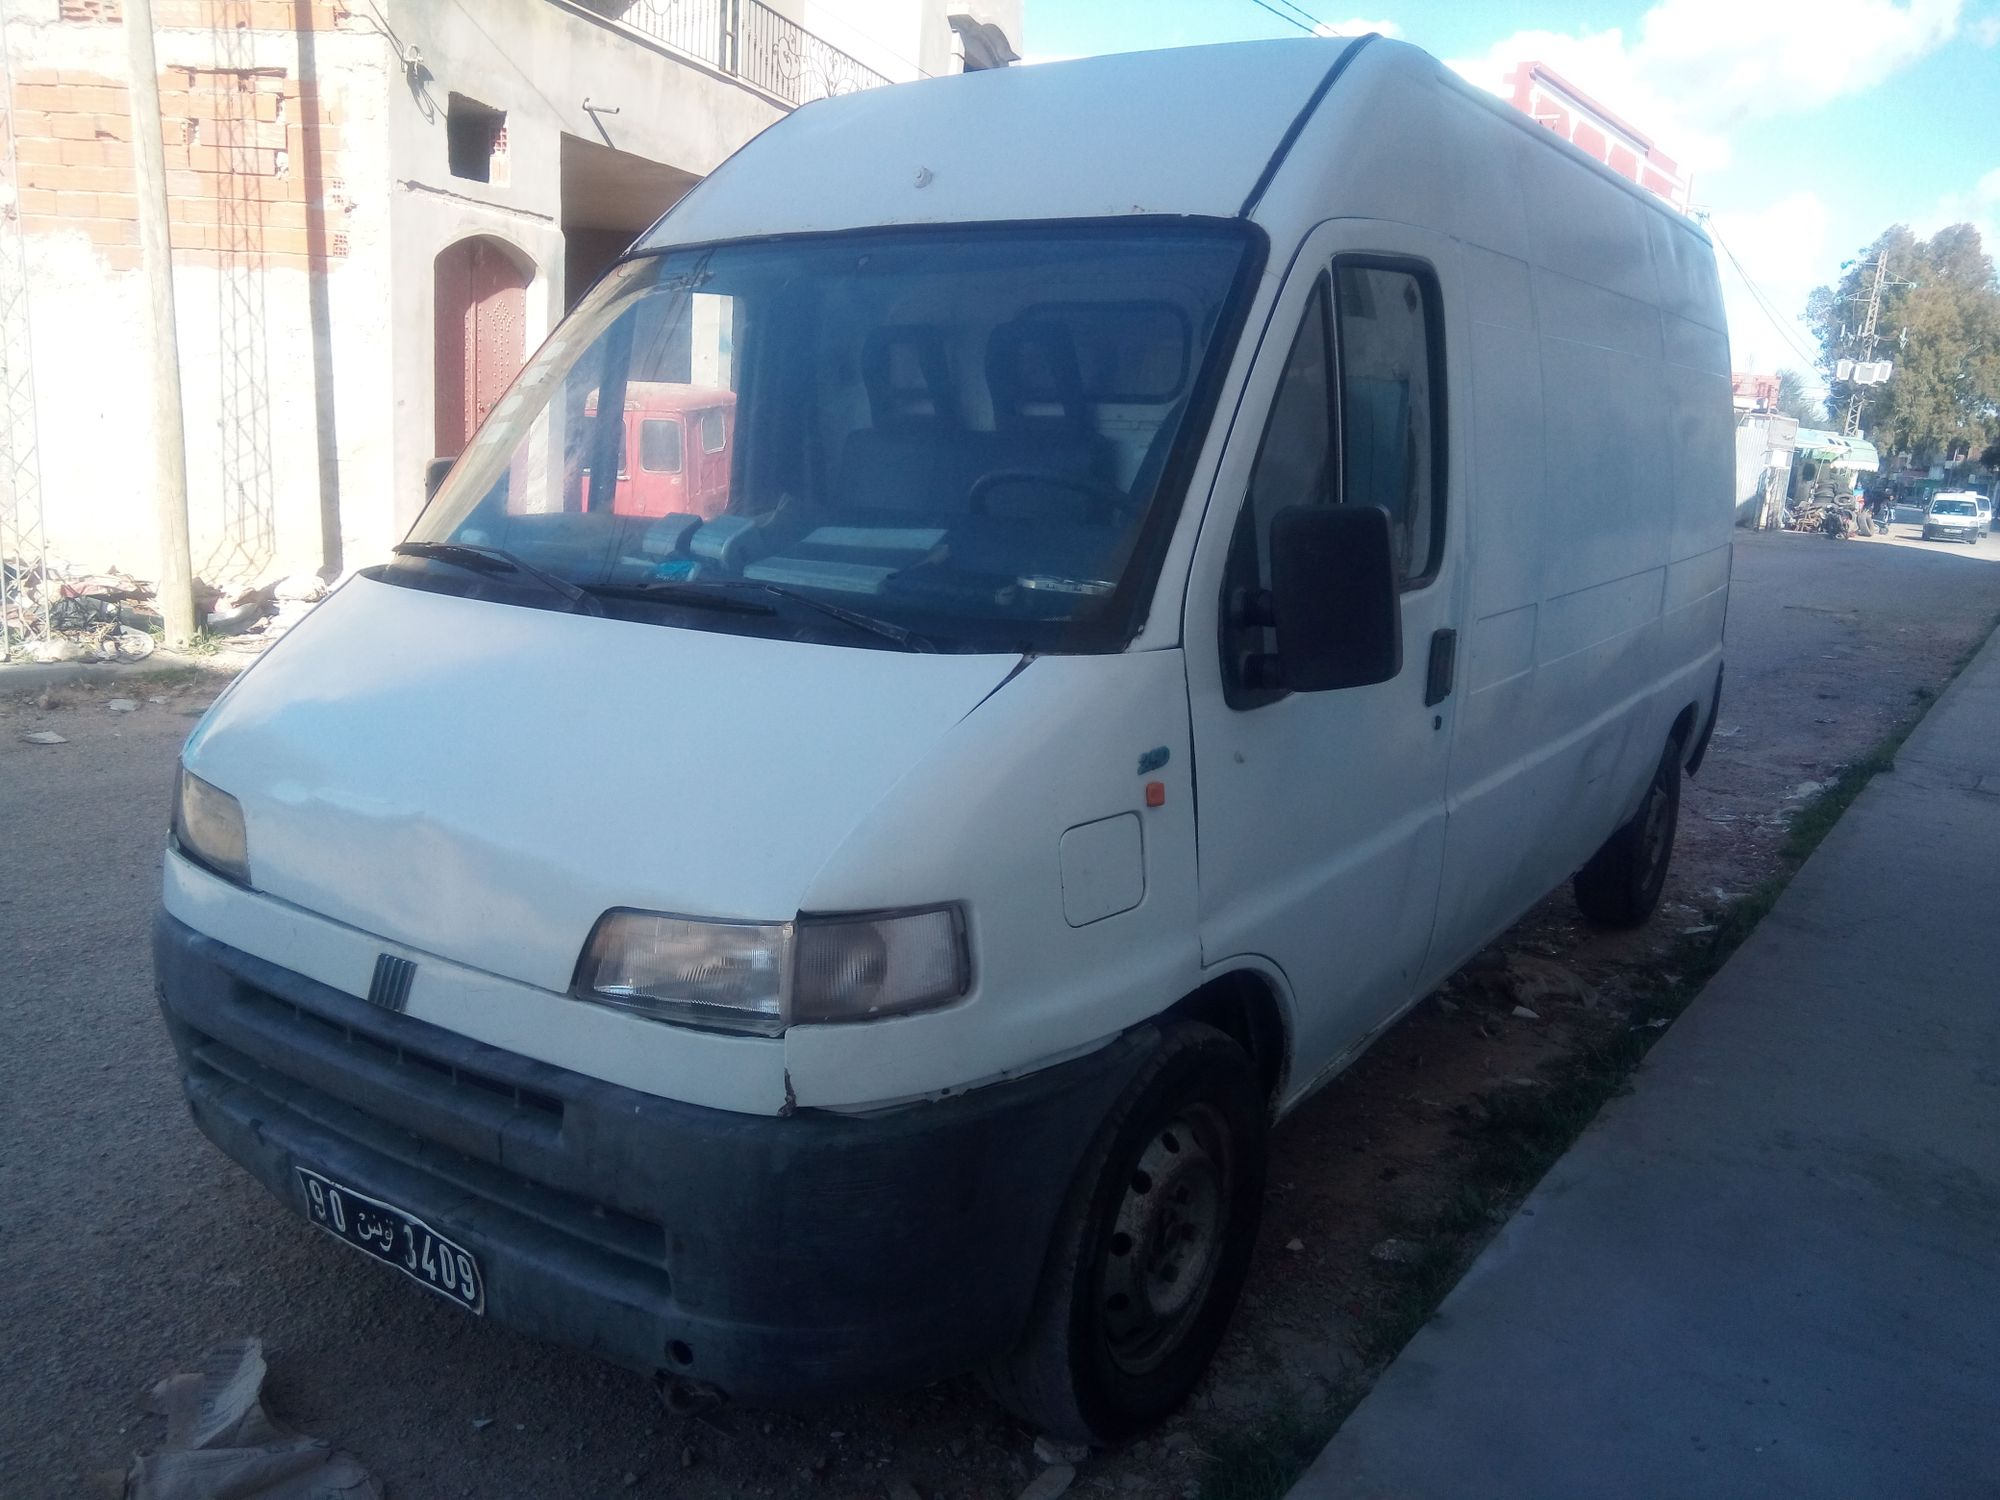LP: (289, 1160, 491, 1329)
